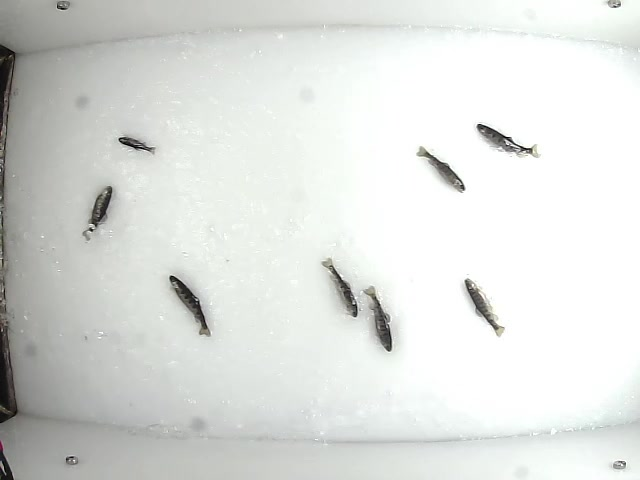fish: (167, 273, 214, 340), (413, 144, 468, 194), (474, 119, 541, 160), (463, 276, 506, 339), (320, 256, 359, 321), (363, 283, 395, 352), (81, 184, 114, 240), (115, 133, 158, 156)
